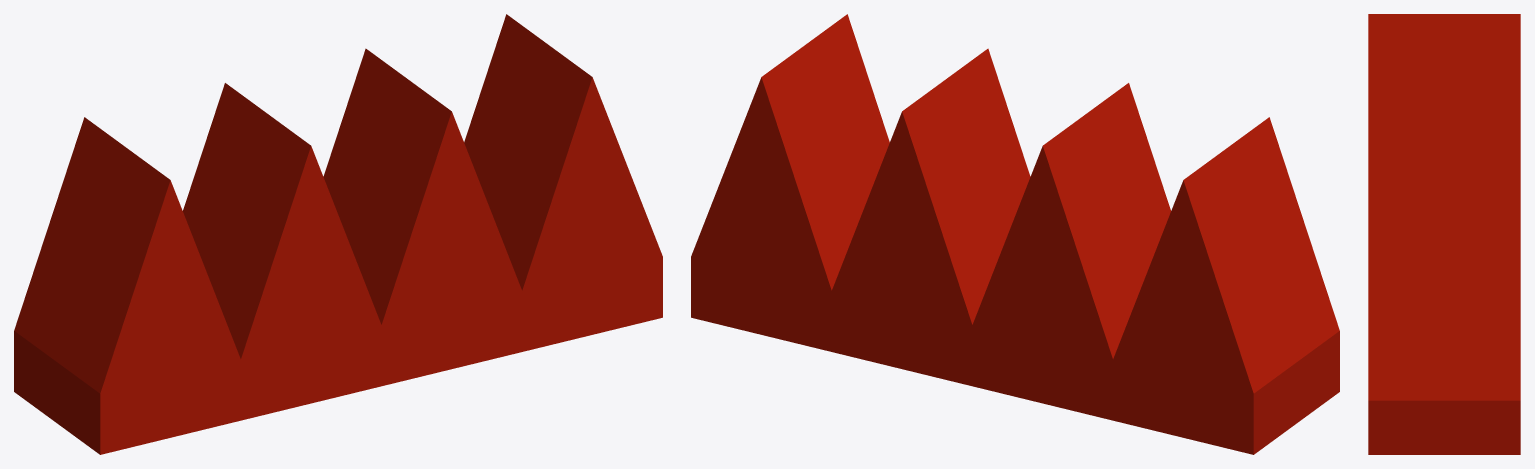
Rendered from Spikes_1.fbx.
3 views of the same model, side by side, from view 1: azimuth 30°, elevation 25°; view 2: azimuth 150°, elevation 25°; view 3: azimuth 270°, elevation 25° (orthographic). The views are drawn at different scales.
Visible parts, largest first — view 1: Spikes_1; view 2: Spikes_1; view 3: Spikes_1.
Part boxes in pixels (bbox=[...]): Spikes_1: bbox=[14, 14, 662, 454]; Spikes_1: bbox=[691, 14, 1339, 454]; Spikes_1: bbox=[1368, 14, 1520, 454].
Size of the model in its own units: 94.2 by 41.25 by 24.98.
